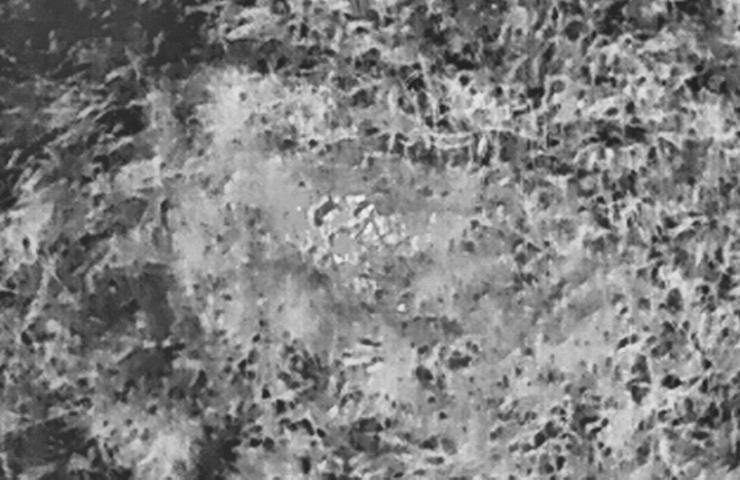landmines: (294, 188, 428, 292)
